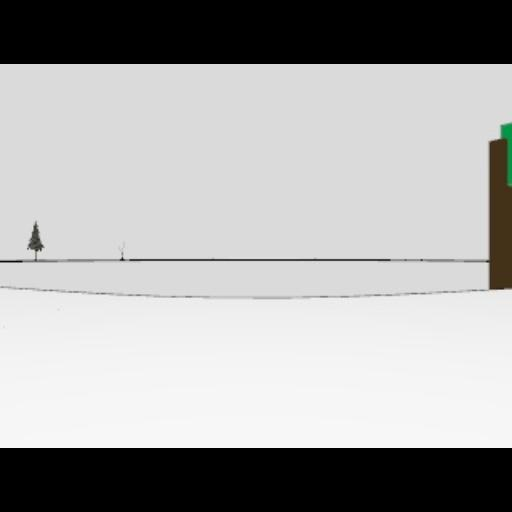A: (508, 132, 512, 144)
